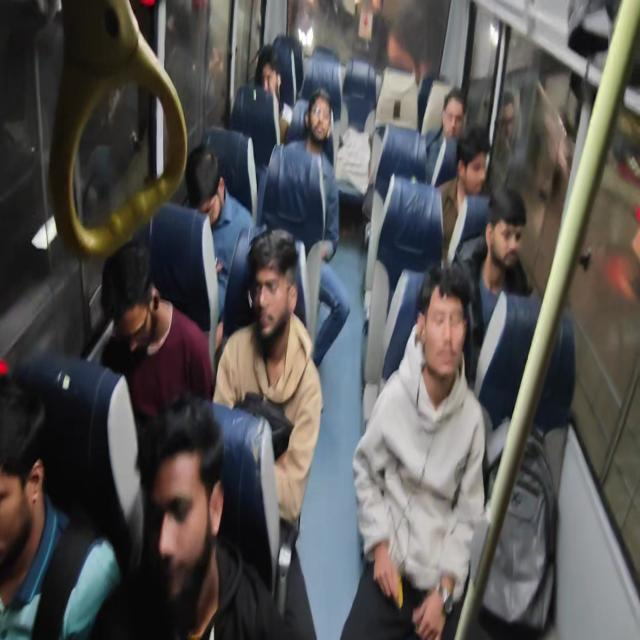person: (139, 403, 226, 600), (104, 247, 160, 360), (423, 270, 471, 392), (244, 229, 292, 339), (489, 184, 532, 275), (252, 42, 292, 118), (192, 143, 226, 227), (462, 125, 496, 201), (307, 72, 336, 154), (437, 75, 468, 135)
